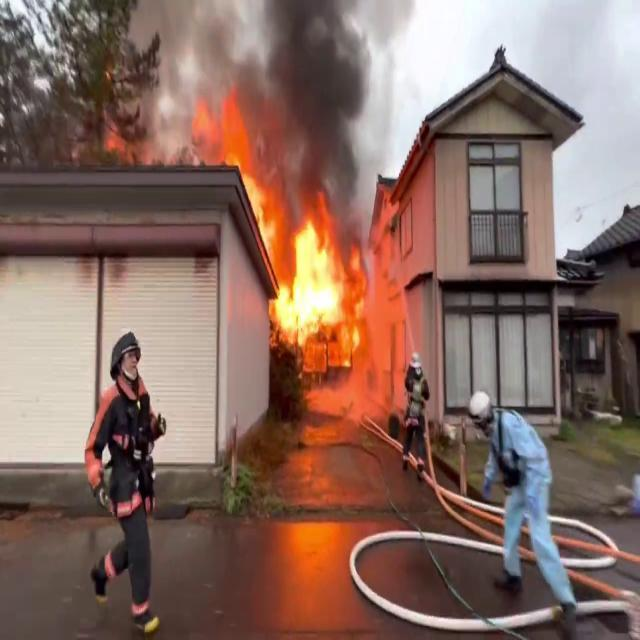Fire: (258, 204, 366, 354)
Smoke: (110, 0, 391, 172)
